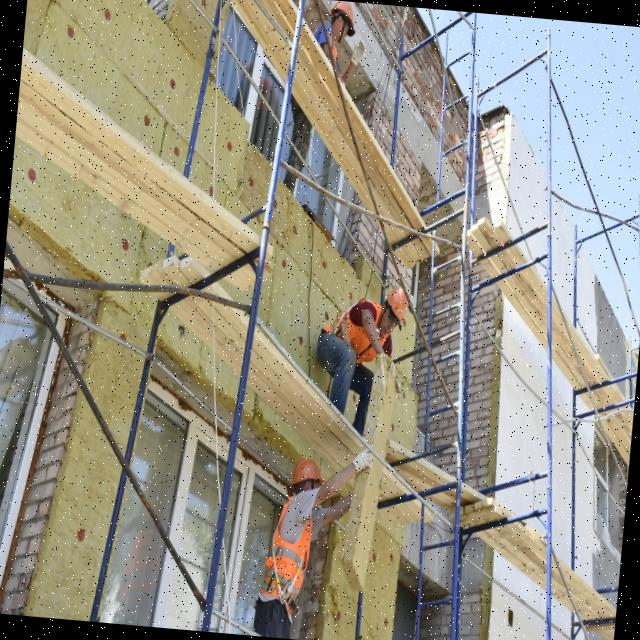Helmet: (291, 457, 327, 488), (386, 288, 410, 323), (330, 1, 358, 26)
Jacket: (268, 496, 314, 604), (330, 304, 381, 364)
